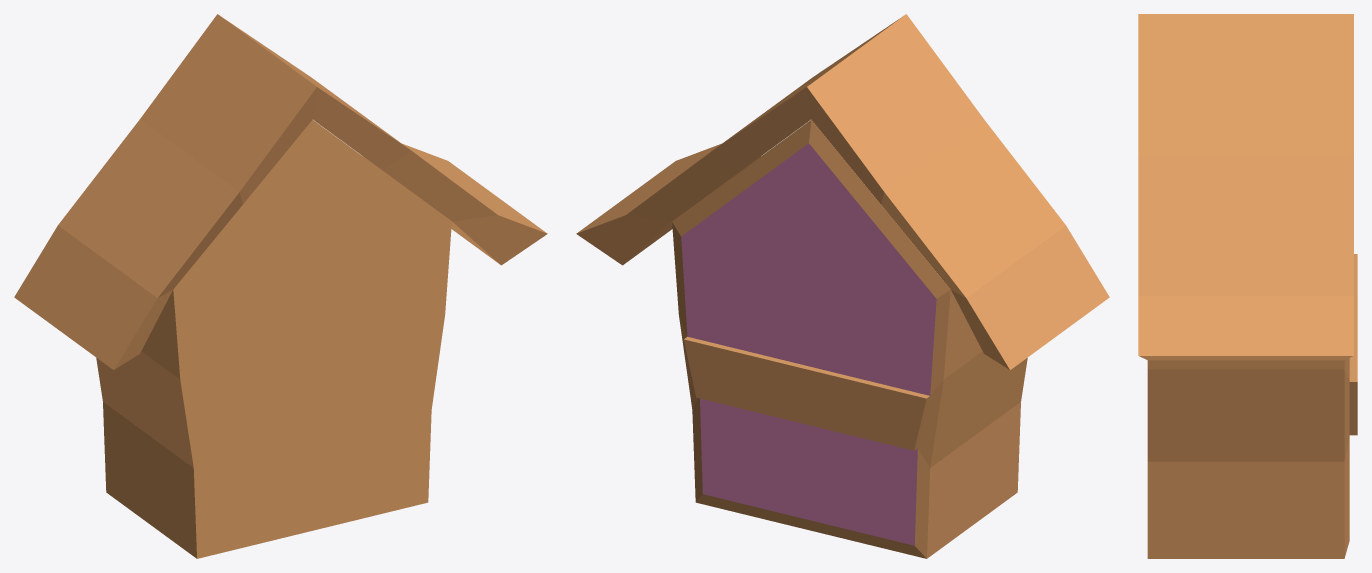
File: CasitaDeHadasYDuendes.fbx
3 renders of one model, left to right at view 1: azimuth 30°, elevation 25°; view 2: azimuth 150°, elevation 25°; view 3: azimuth 270°, elevation 25°, orthographic. The views are drawn at different scales.
Parts seen in each view (by area): view 1: Casita de hadas; view 2: Casita de hadas; view 3: Casita de hadas.
Boxes of the visible parts, box(x1,y1,x2,y2) form: Casita de hadas: box(14, 14, 547, 558); Casita de hadas: box(576, 14, 1109, 558); Casita de hadas: box(1138, 14, 1357, 558).
Bounding box in the file's own units: 61.91 × 60.92 × 25.03.
